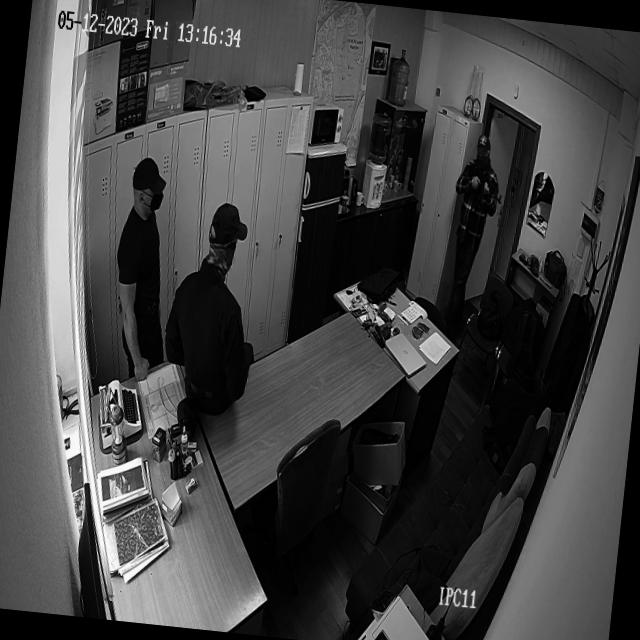gun: (462, 174, 505, 210), (518, 253, 528, 264)
person: (157, 198, 270, 418), (103, 156, 184, 384)
person with a gun: (442, 132, 510, 338)
